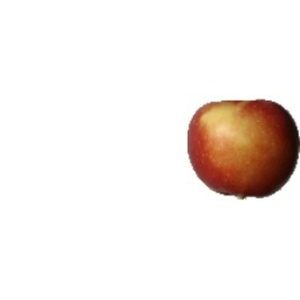maçã braeburn: (186, 99, 300, 200)
